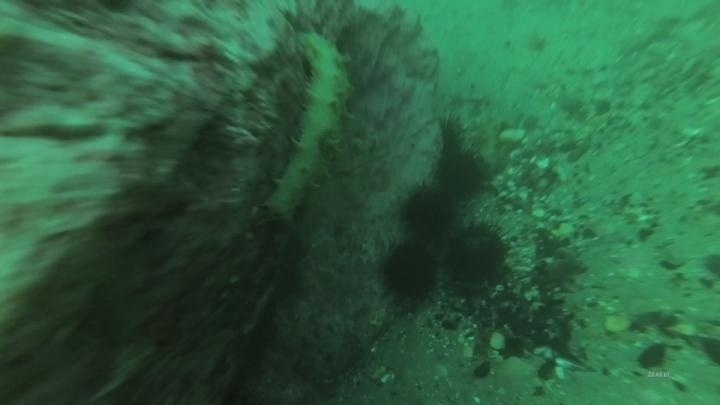echinus: (441, 218, 514, 290), (376, 238, 443, 309), (397, 181, 459, 241), (430, 113, 471, 184), (436, 148, 489, 201)
holothurian: (262, 30, 357, 225)
